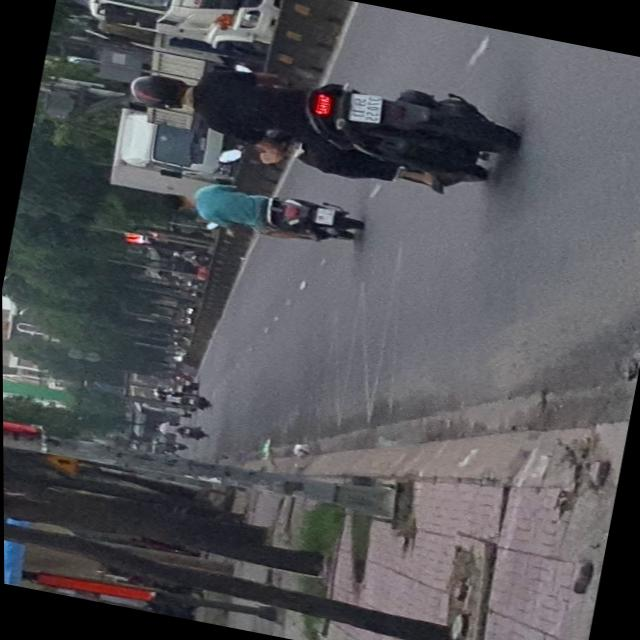helmet: (124, 66, 194, 114)
licenseplate: (116, 32, 526, 211), (154, 168, 368, 255)
motorcyclist: (159, 188, 195, 212)
nohelmet: (347, 90, 383, 123), (314, 206, 335, 224)
